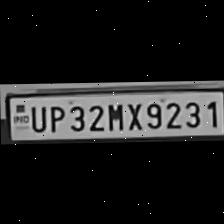1: (202, 99, 220, 128)
2: (161, 98, 181, 130), (84, 101, 104, 132)
3: (64, 102, 86, 132), (180, 98, 200, 128)
9: (140, 100, 162, 129)
M: (104, 100, 124, 130)
P: (46, 102, 64, 132)
U: (27, 103, 46, 132)
X: (124, 99, 142, 130)
